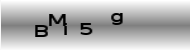5: (78, 22, 93, 36)
B: (33, 23, 49, 38)
M: (47, 13, 65, 26)
g: (109, 11, 125, 26)
i: (62, 22, 68, 37)
